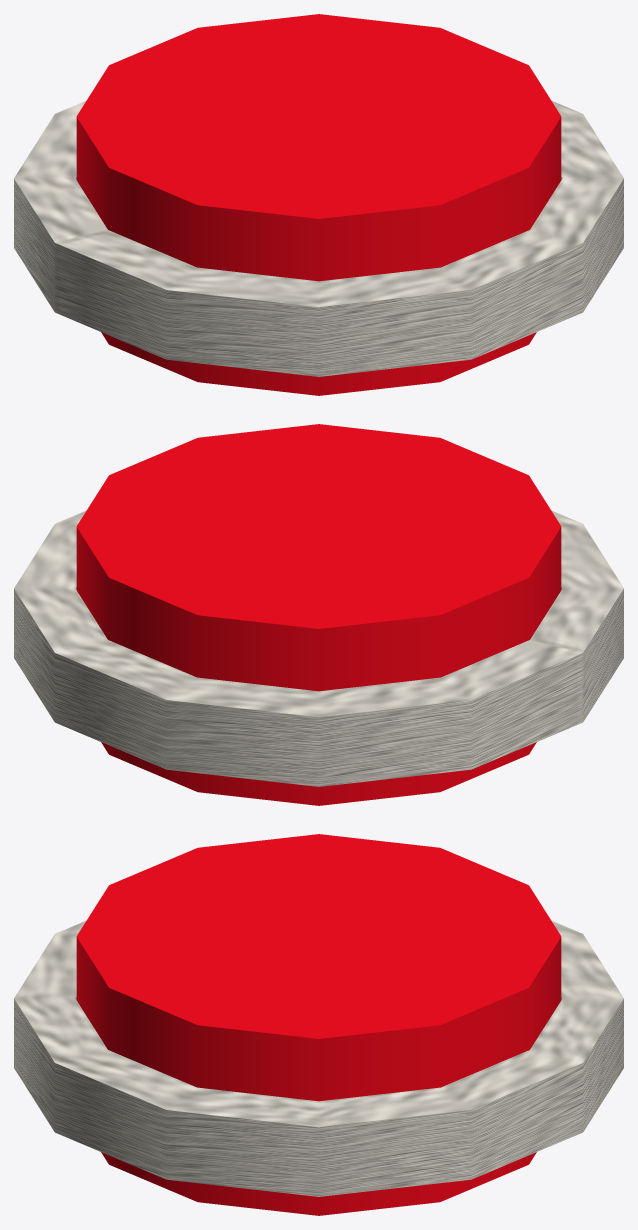
File: switch 1.fbx
The picture shows the model from 3 angles, top to bottom: view 1: azimuth 30°, elevation 25°; view 2: azimuth 150°, elevation 25°; view 3: azimuth 270°, elevation 25°; orthographic projection.
Visible parts, largest first — view 1: switchredactived, switchbase, switchreddesactived; view 2: switchredactived, switchbase, switchreddesactived; view 3: switchredactived, switchbase, switchreddesactived.
Boxes of the visible parts, <box> form: switchredactived: <box>76,14,561,281</box>; switchbase: <box>14,101,623,376</box>; switchreddesactived: <box>90,201,539,395</box>; switchredactived: <box>76,424,561,690</box>; switchbase: <box>14,511,623,786</box>; switchreddesactived: <box>86,589,561,805</box>; switchredactived: <box>76,834,561,1101</box>; switchbase: <box>14,921,623,1196</box>; switchreddesactived: <box>76,999,561,1215</box>.
Bounding box in the file's own units: 11.89 × 3.8 × 11.89.
9 materials, 9 textured.
